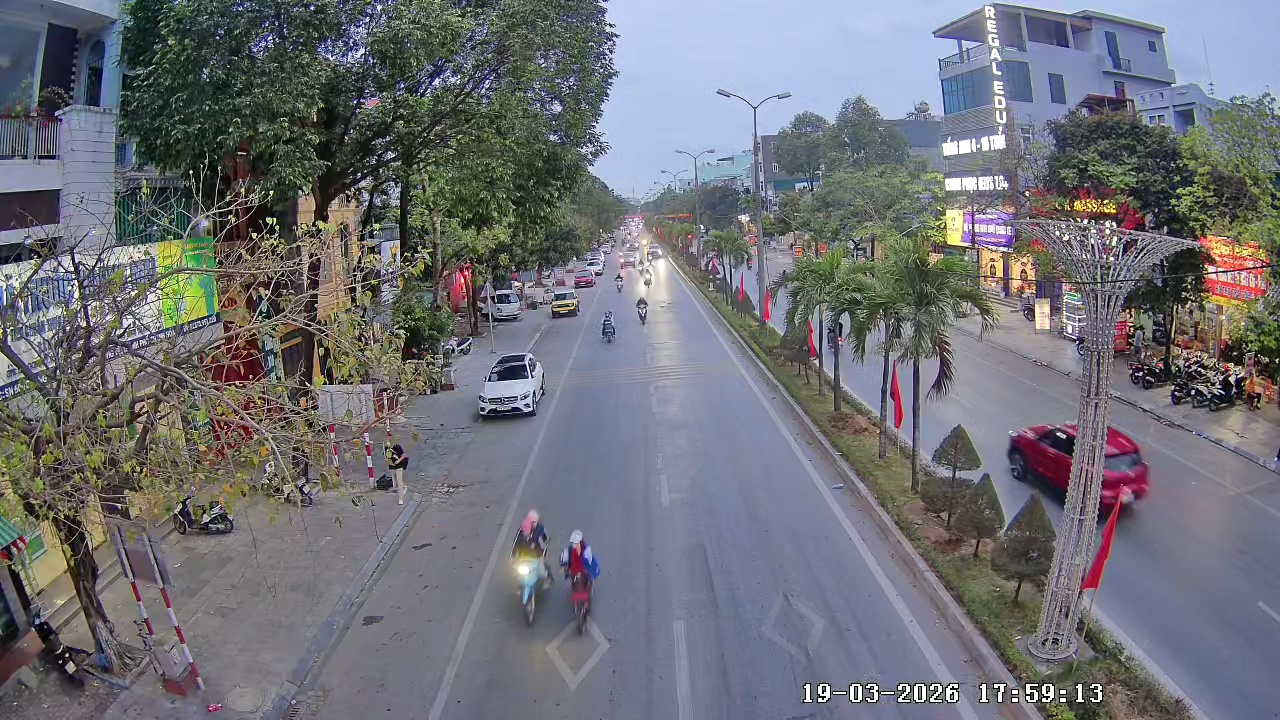car: (1006, 421, 1080, 506), (474, 351, 547, 419), (549, 286, 581, 318)
motorbike: (508, 511, 556, 626), (557, 528, 603, 635), (168, 493, 236, 536), (600, 308, 618, 344), (635, 289, 651, 323)
